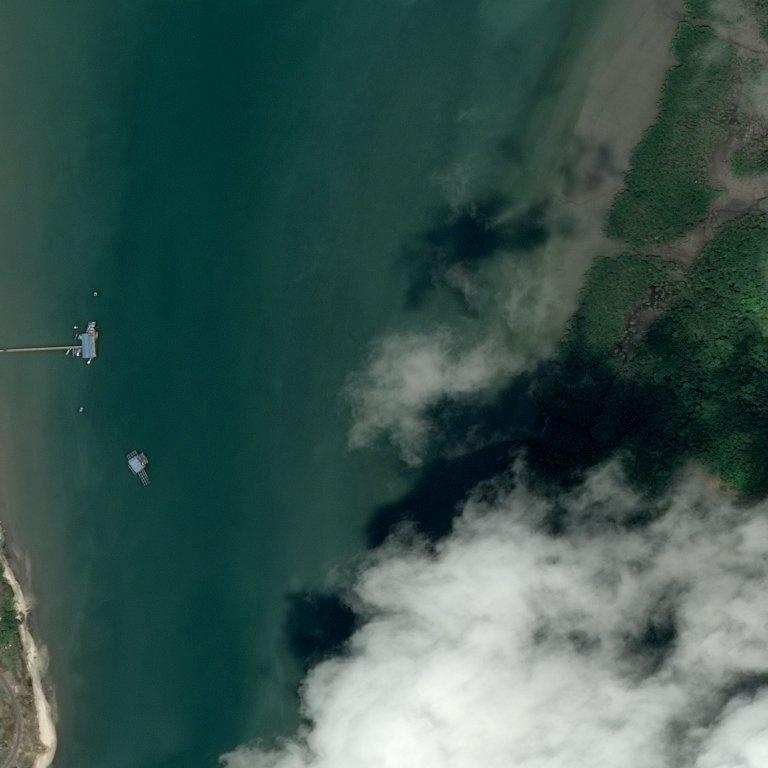ship: (1, 406, 7, 414), (73, 325, 79, 329), (81, 407, 83, 409), (73, 310, 75, 312), (79, 411, 80, 413), (77, 327, 78, 329), (82, 388, 83, 389), (73, 328, 74, 329)
